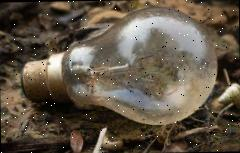lightbulb: (19, 5, 219, 127)
